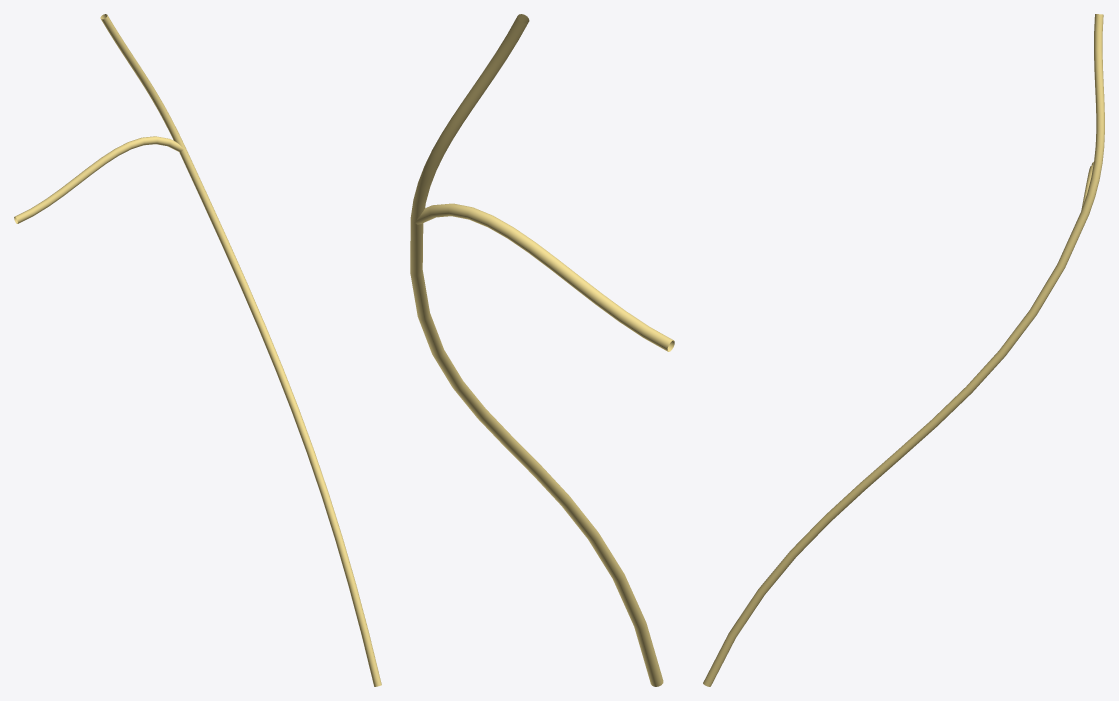
3 renders of one model, left to right at view 1: azimuth 30°, elevation 25°; view 2: azimuth 150°, elevation 25°; view 3: azimuth 270°, elevation 25°, orthographic. The views are drawn at different scales.
Visible parts, largest first — view 1: ZA_1fd6c34e2e0e40c5; view 2: ZA_1fd6c34e2e0e40c5; view 3: ZA_1fd6c34e2e0e40c5.
Part boxes in pixels (x1,y1,x2,y2): ZA_1fd6c34e2e0e40c5: (14, 14, 381, 686); ZA_1fd6c34e2e0e40c5: (410, 14, 674, 686); ZA_1fd6c34e2e0e40c5: (703, 14, 1104, 686).
Size of the model in its own units: 0.0282 by 0.0783 by 0.0459.
